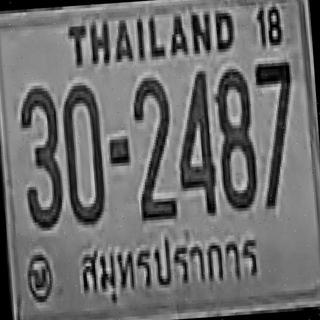N00: (59, 81, 107, 226)
N02: (131, 75, 176, 220)
N03: (17, 84, 64, 229)
N04: (172, 68, 218, 215)
N07: (252, 59, 298, 206)
N08: (212, 65, 258, 209)
P57: (70, 222, 264, 308)
